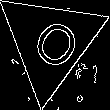O_SW: (20, 9, 81, 76)
